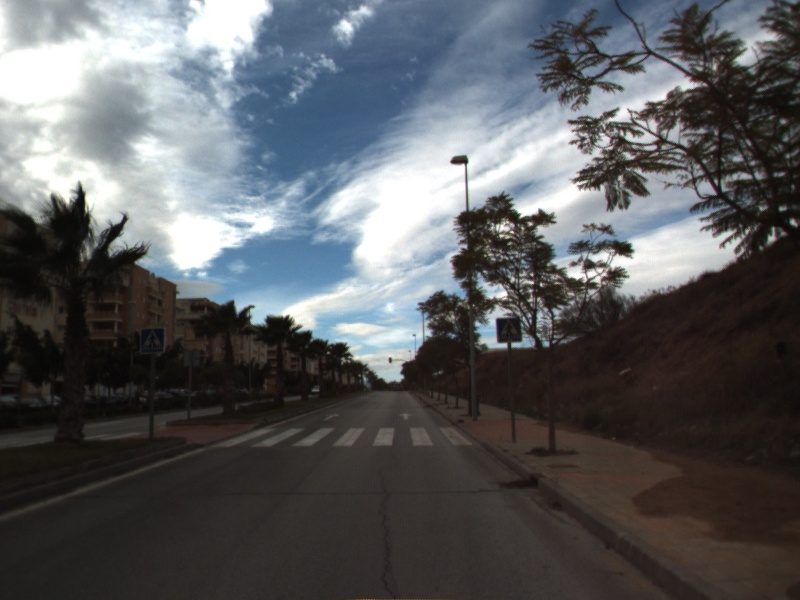STRAIGHT: (321, 410, 342, 422), (397, 411, 415, 422)
